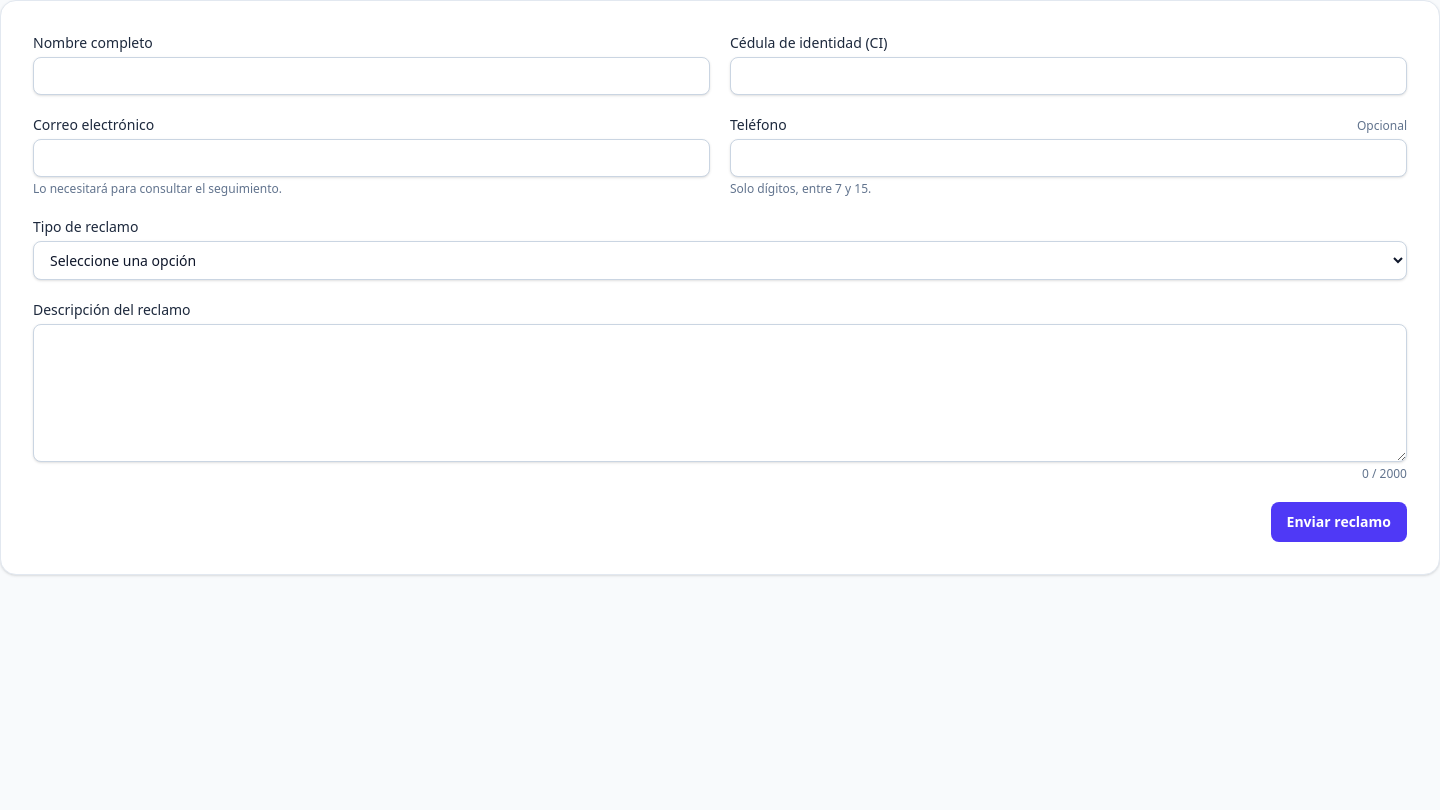
Scenario: ClaimForm › destaca el folio y la fecha límite al registrar
Type "María Fernández Rojas" into the field labelled "Nombre completo" at (372, 76), box left=33, top=57, right=710, bottom=95
Type "1234567 LP" into the field labelled "Cédula de identidad (CI)" at (1068, 76), box left=730, top=57, right=1407, bottom=95
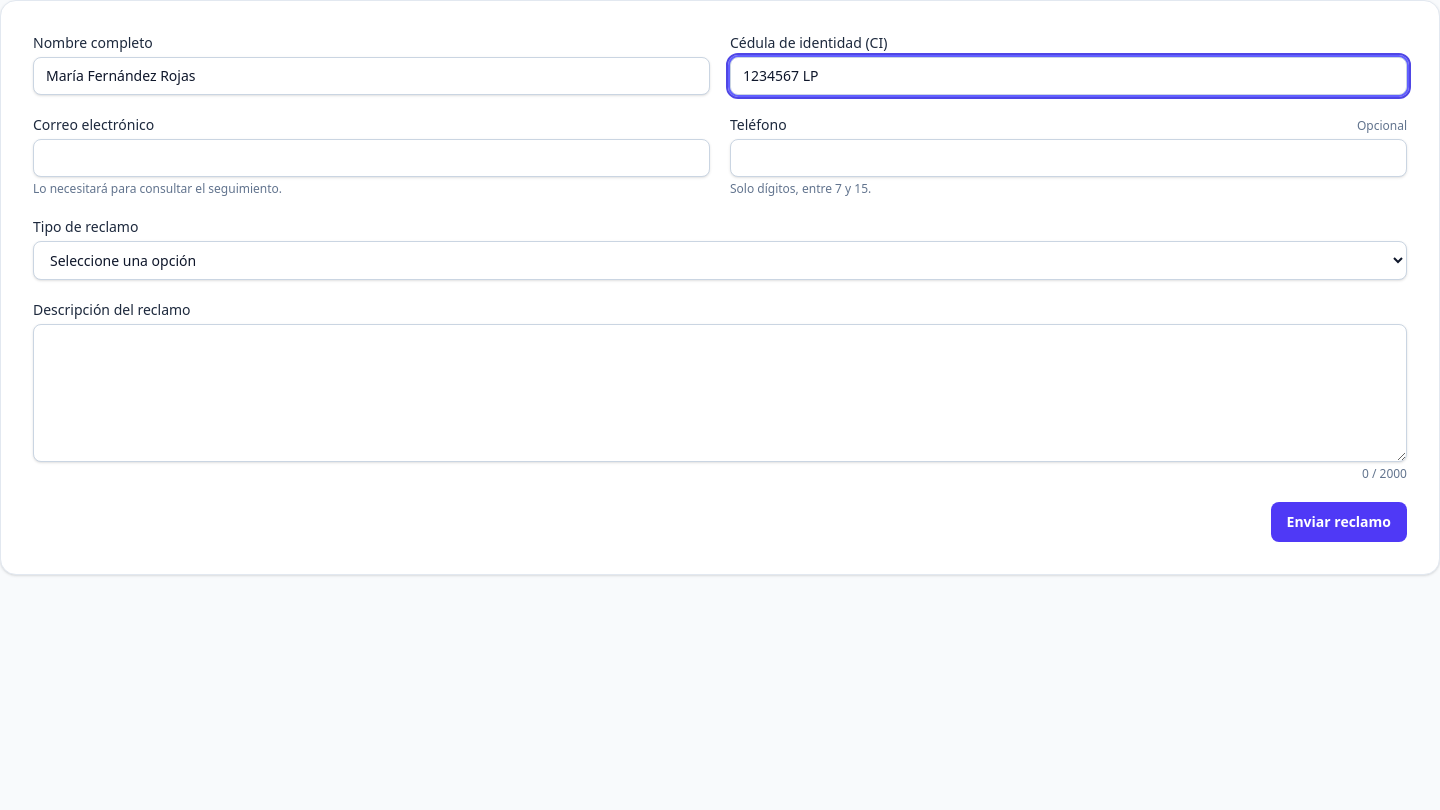
Type "maria@example.com" into the field labelled "Correo electrónico" at (372, 158), box left=33, top=139, right=710, bottom=177
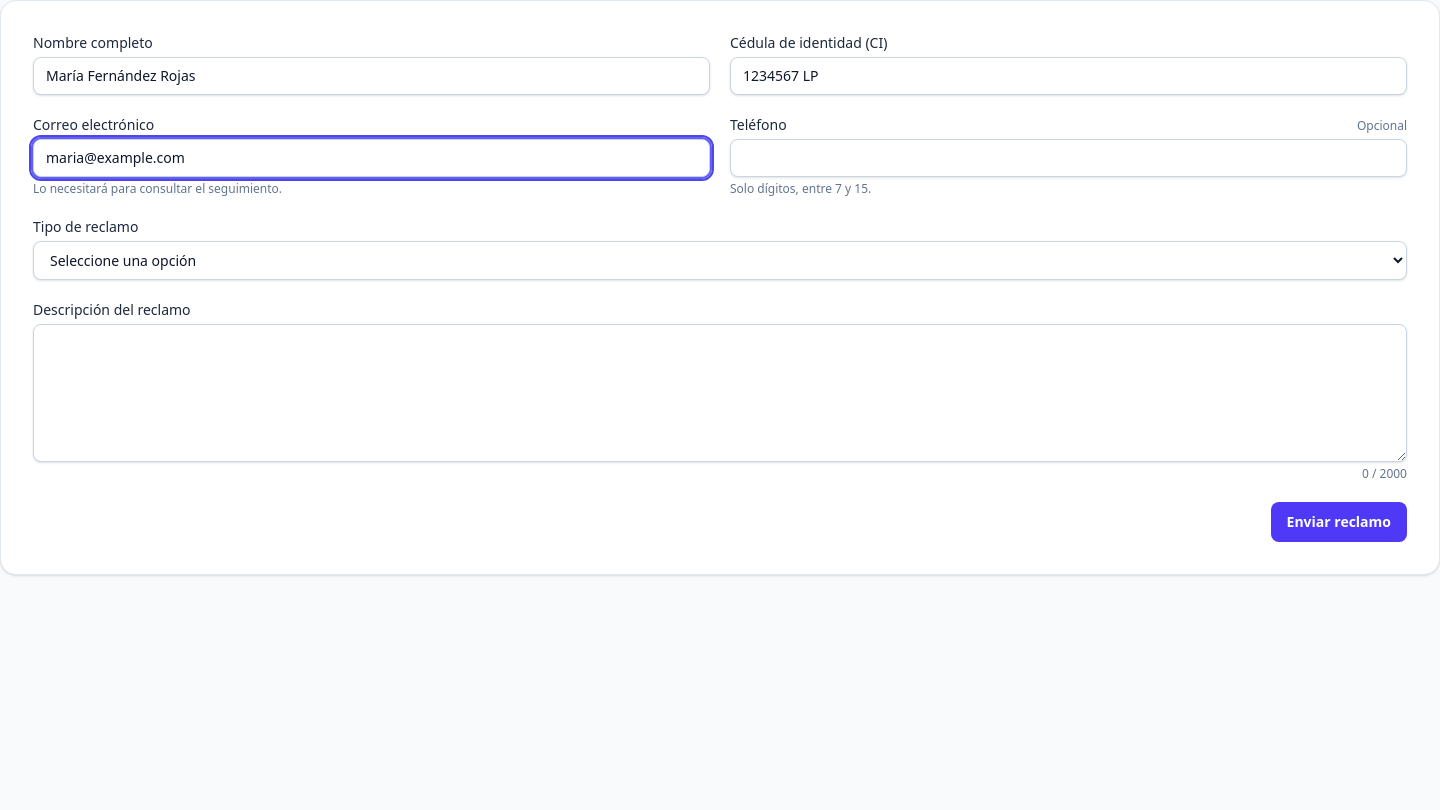
Type "71234567" into the field labelled "Teléfono Opcional" at (1068, 158), box left=730, top=139, right=1407, bottom=177
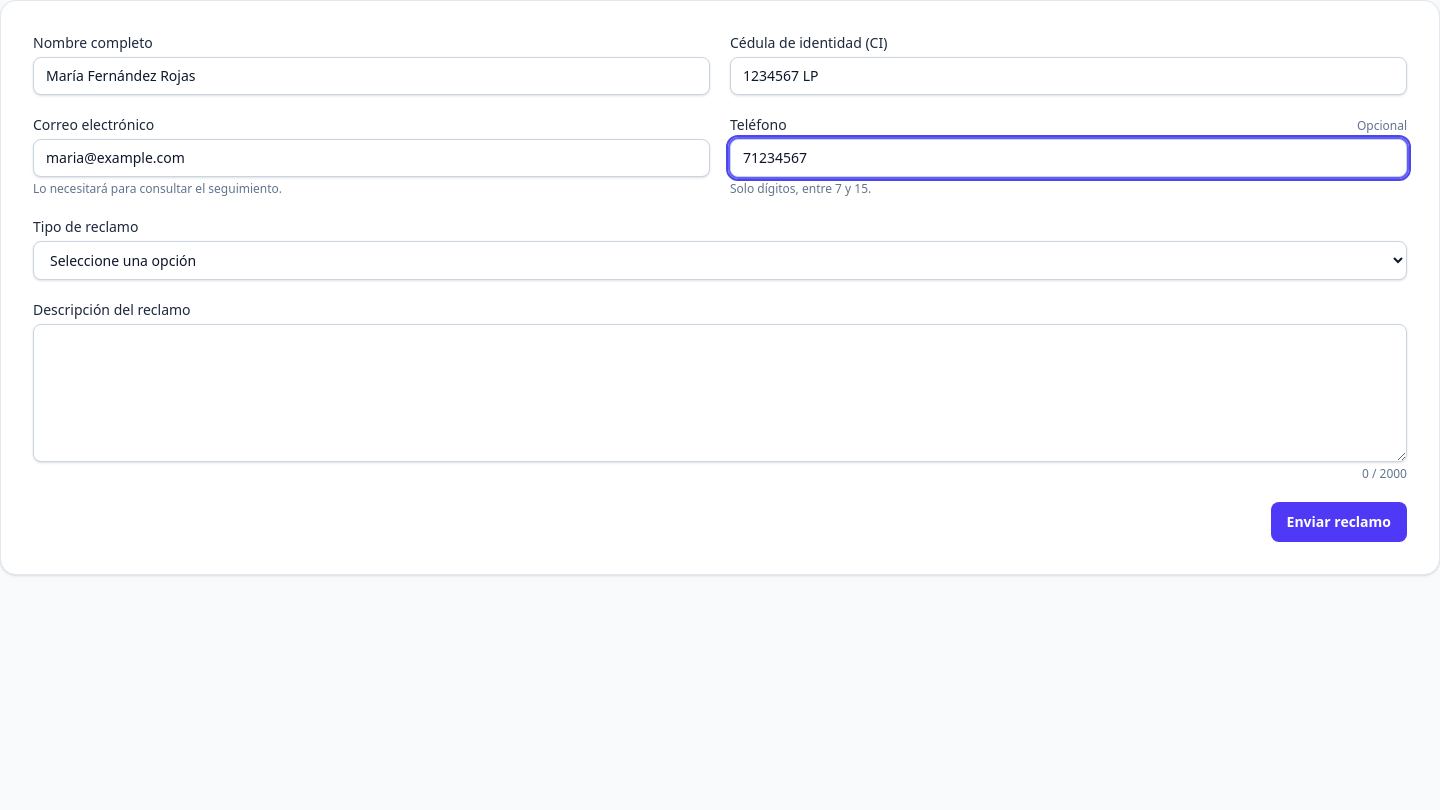
Select "Cobros" in the dropdown labelled "Tipo de reclamo" at (720, 260), box left=33, top=241, right=1407, bottom=280
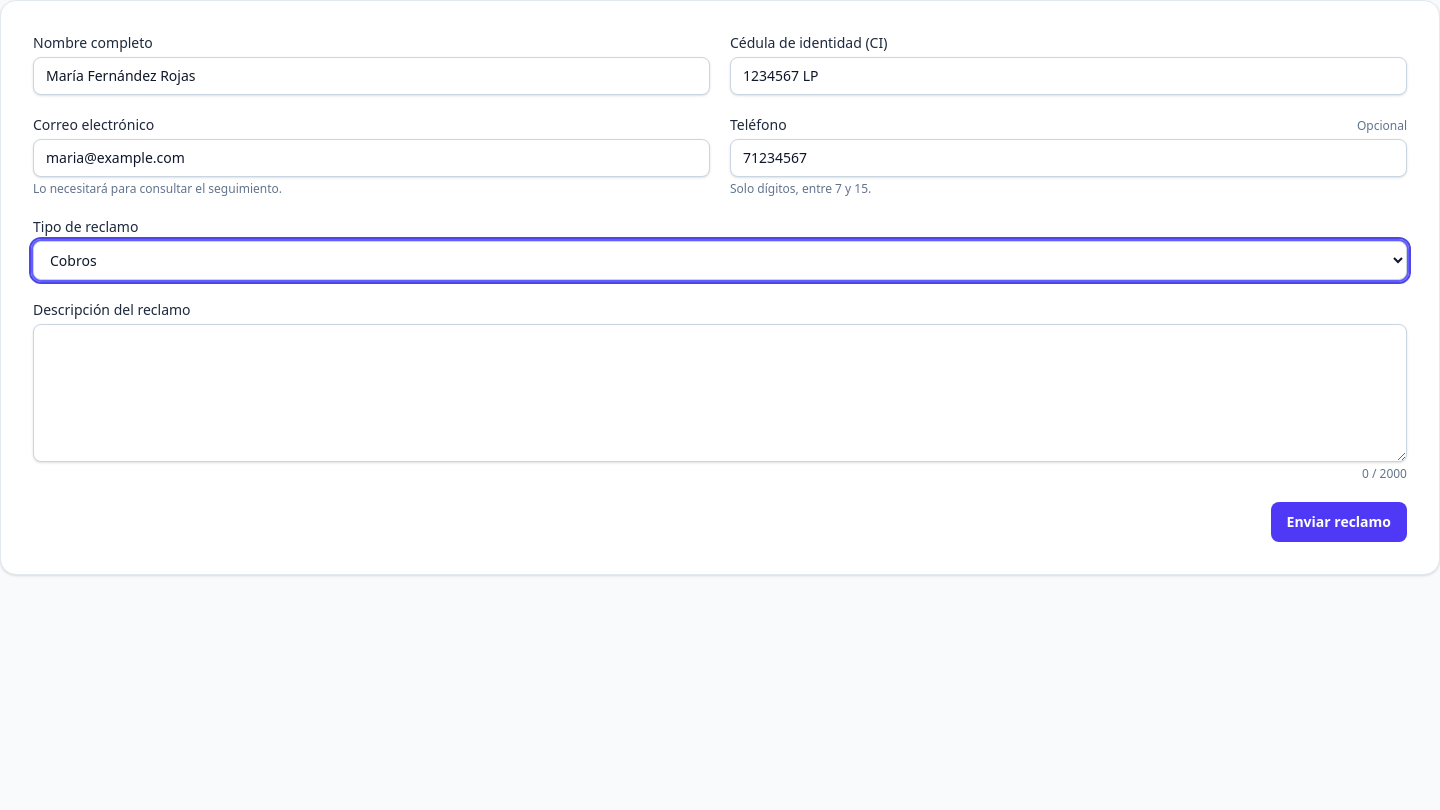
Type "Se me cobró una comisión que no corresponde según mi contrato." into the text box labelled "Descripción del reclamo" at (720, 393), box left=33, top=324, right=1407, bottom=462
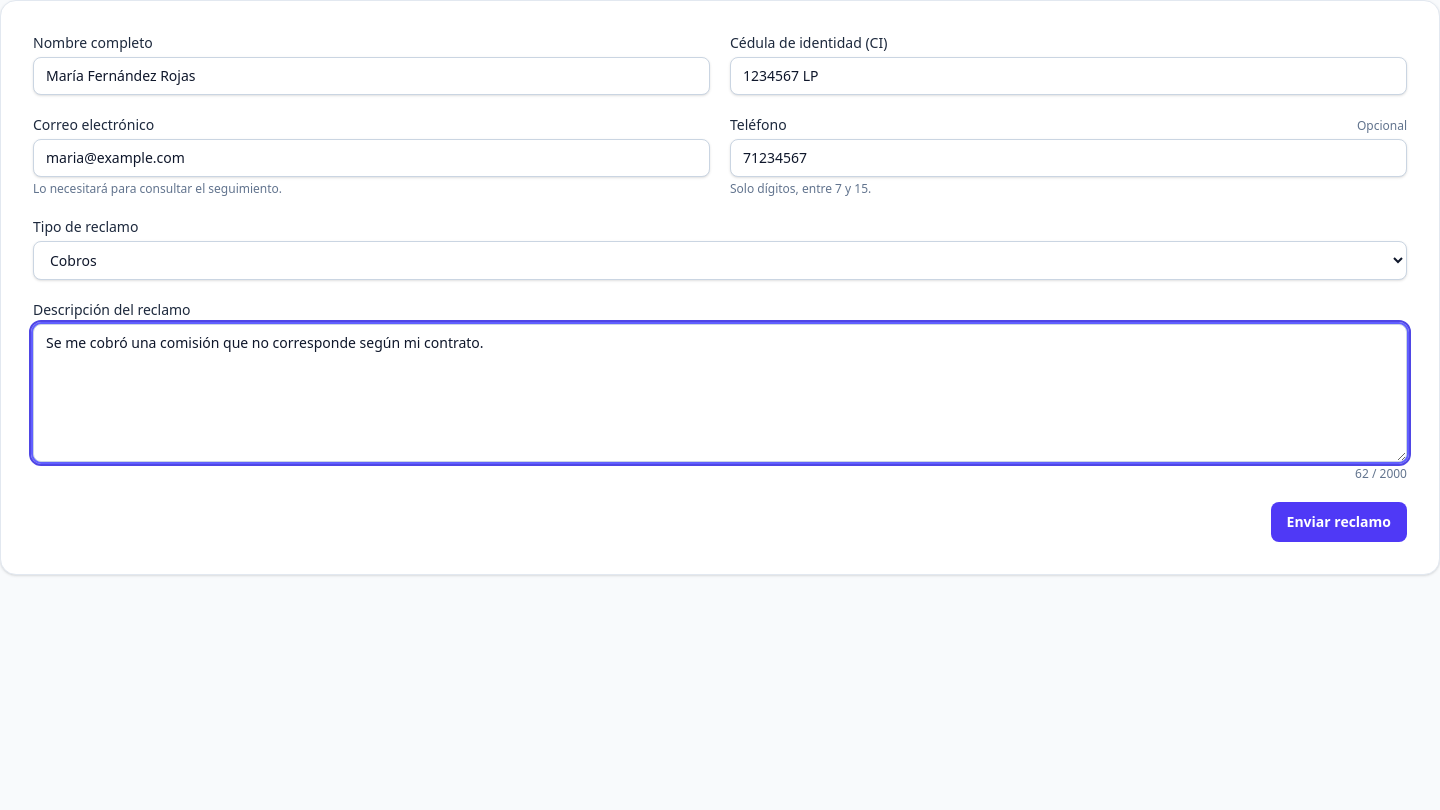
Click the button "Enviar reclamo" at (1339, 522), box left=1271, top=502, right=1407, bottom=542
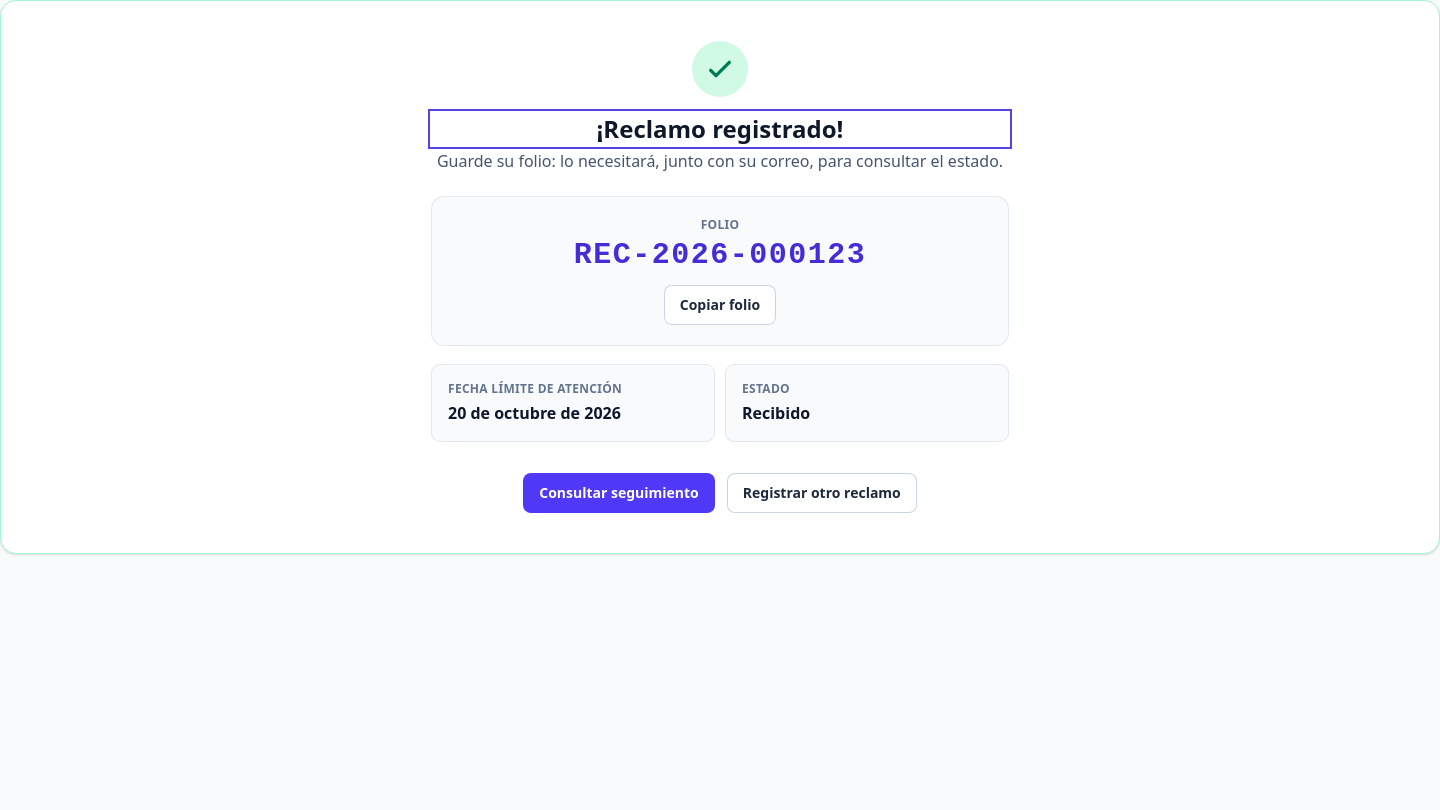
Check: the text "REC-2026-000123" is shown, box left=574, top=238, right=866, bottom=272
Check: the text "20 de octubre de 2026" is shown, box left=448, top=402, right=621, bottom=424
